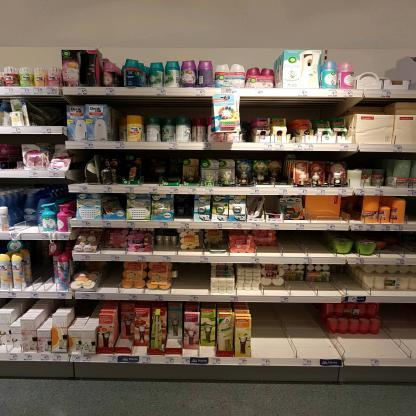Void: (251, 302, 323, 356), (382, 305, 414, 355), (243, 102, 342, 118), (282, 228, 332, 253), (29, 244, 55, 289), (24, 100, 66, 126), (331, 335, 377, 358), (144, 154, 180, 182), (175, 264, 206, 291), (388, 231, 414, 254), (100, 264, 121, 286), (342, 195, 362, 218), (112, 106, 124, 142), (102, 192, 128, 208), (75, 299, 101, 315), (175, 195, 191, 218), (11, 223, 42, 234), (406, 200, 416, 217)
